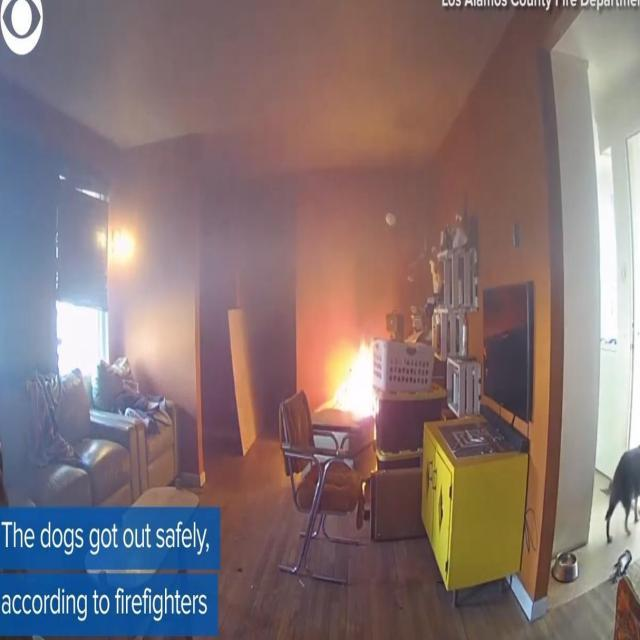smoke: (332, 339, 378, 418)
